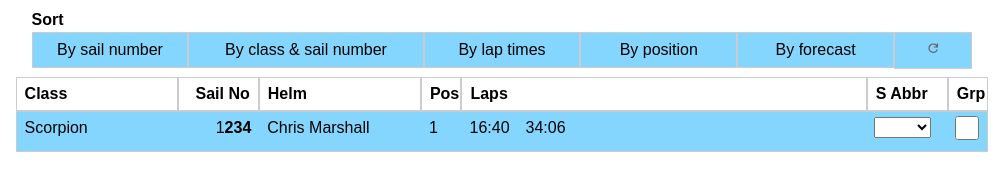
Test: when removing a lap time › refreshes display after lap time removed
Expected: the text "34:06" is shown, [526, 119, 566, 136]
Type keys "{Control>}"
Click the element showing "1234" at (220,127), box [216, 119, 251, 136]
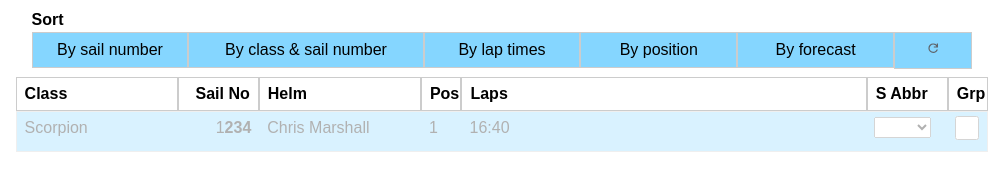
Expected: the text "34:06" is gone
